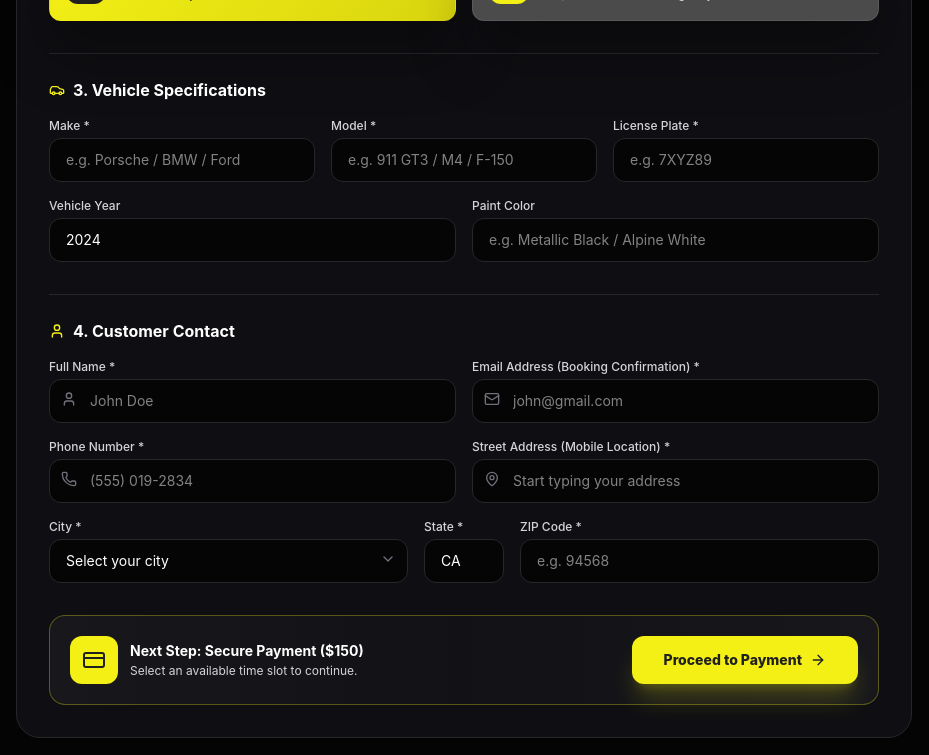
Scenario: BookingForm › fills the city from a valid ZIP
(page scrolled)
Type "94507" into the field labelled "ZIP Code *".
click(700, 561); type("94507")  # box [520,539,879,583]
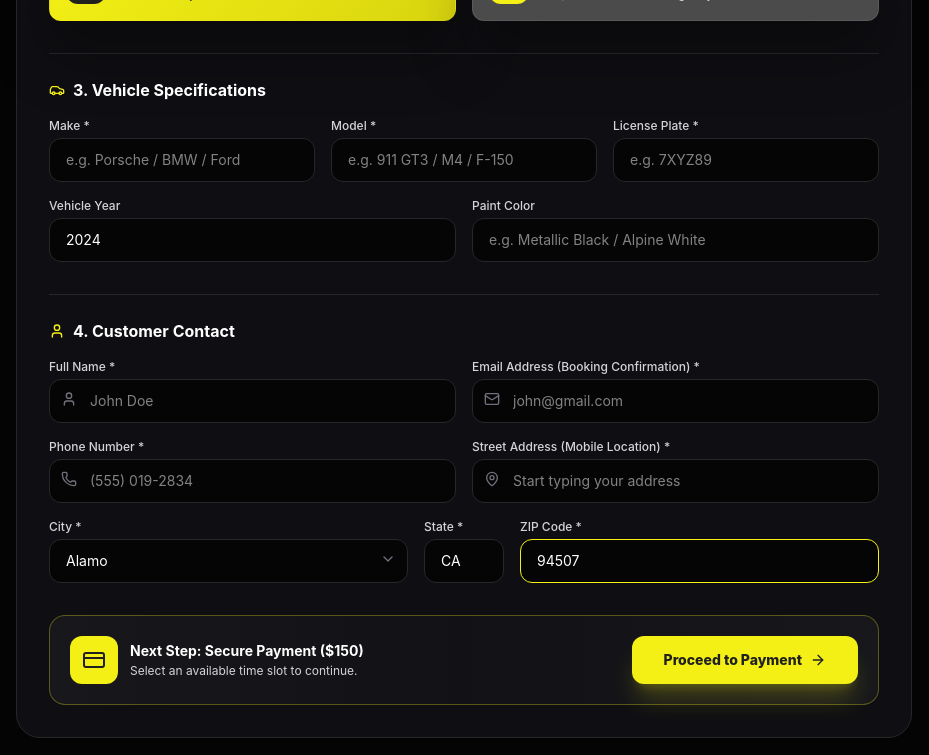
Check: the dropdown labelled "City *" shows "Alamo", box [49,539,408,583]
